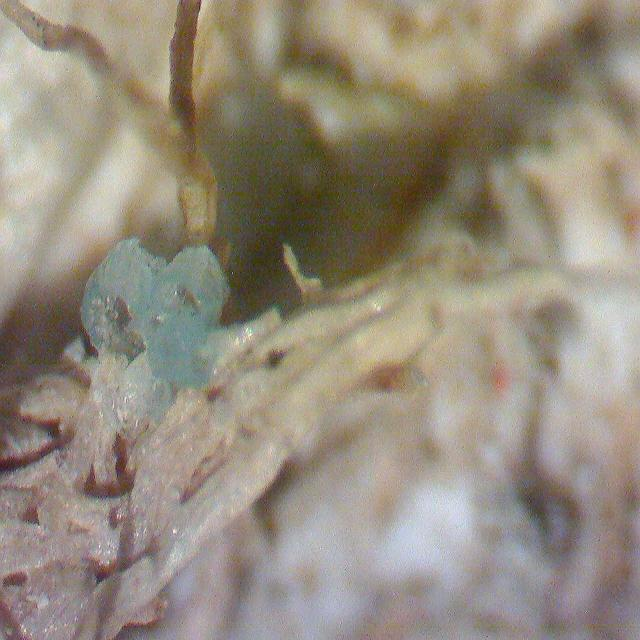microplastic: (80, 237, 230, 389)
